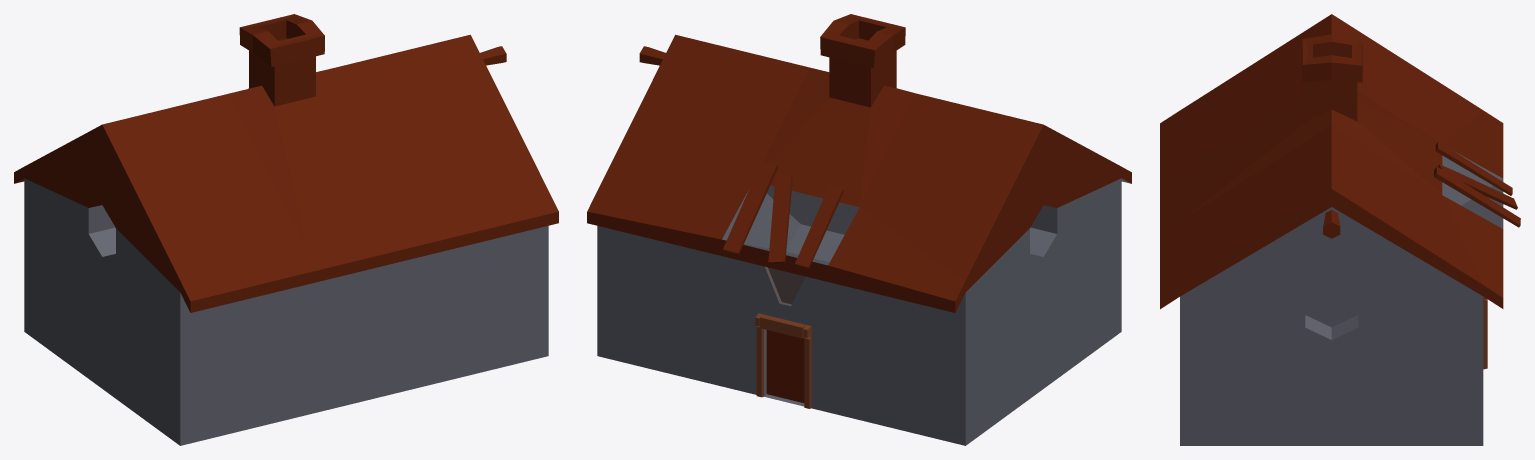
The model's file is Level 1 House 2.fbx.
The picture shows the model from 3 angles, left to right: view 1: azimuth 30°, elevation 25°; view 2: azimuth 150°, elevation 25°; view 3: azimuth 270°, elevation 25°; orthographic projection. The views are drawn at different scales.
Parts seen in each view (by area): view 1: Plane.010; view 2: Plane.010; view 3: Plane.010.
Boxes of the visible parts, <box> form: Plane.010: <box>14,14,558,445</box>; Plane.010: <box>587,14,1131,445</box>; Plane.010: <box>1160,14,1520,445</box>.
Bounding box in the file's own units: 1266 × 959 × 1017.
